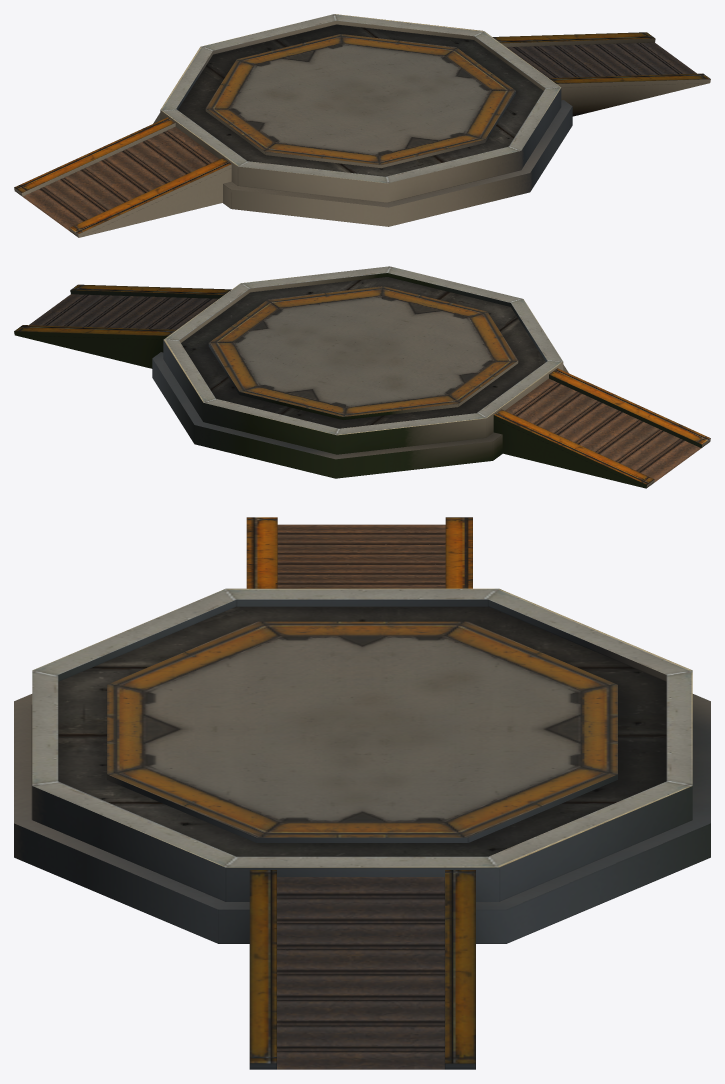
File: platform.dae
The picture shows the model from 3 angles, top to bottom: view 1: azimuth 30°, elevation 25°; view 2: azimuth 150°, elevation 25°; view 3: azimuth 270°, elevation 25°; orthographic projection. The views are drawn at different scales.
Visible parts, largest first — view 1: Platform; view 2: Platform; view 3: Platform.
Boxes of the visible parts, bbox=[...] form: Platform: bbox=[14, 14, 710, 237]; Platform: bbox=[14, 266, 710, 488]; Platform: bbox=[14, 517, 710, 1069].
Bounding box in the file's own units: 171 × 10 × 92.39.
Materials: 1 (1 with a texture image).
